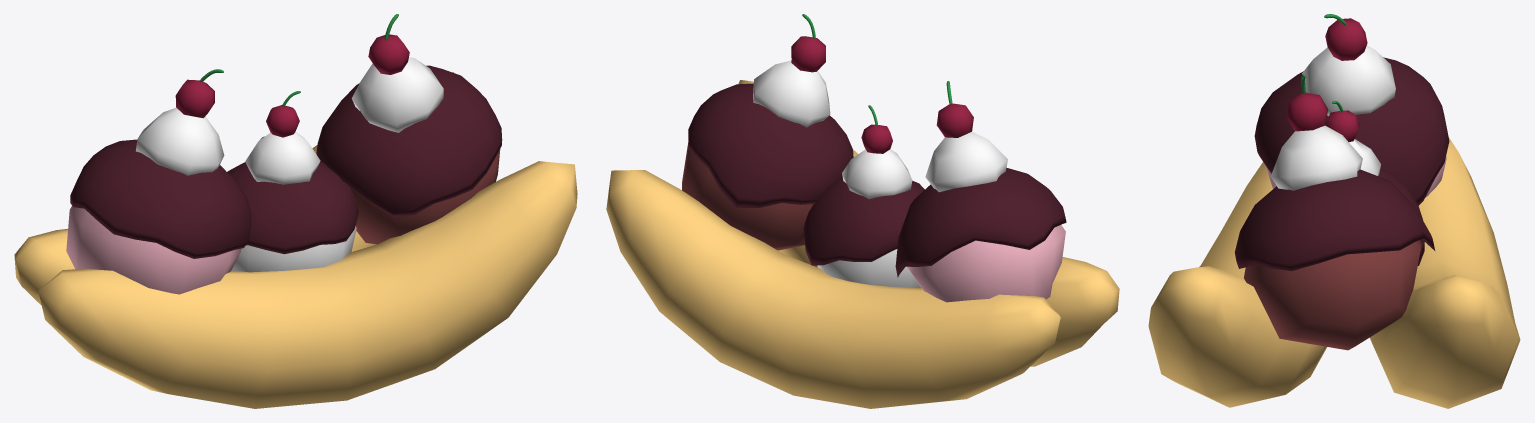
File: Banana_Split_Food.glb
3 views of the same model, side by side, from view 1: azimuth 30°, elevation 25°; view 2: azimuth 150°, elevation 25°; view 3: azimuth 270°, elevation 25° (orthographic). The views are drawn at different scales.
Visible parts, largest first — view 1: Banana_Split_Food; view 2: Banana_Split_Food; view 3: Banana_Split_Food.
Part boxes in pixels (left/top/right/bottom): Banana_Split_Food: left=14, top=14, right=577, bottom=408; Banana_Split_Food: left=606, top=14, right=1119, bottom=408; Banana_Split_Food: left=1148, top=14, right=1520, bottom=408.
Bounding box in the file's own units: 0.1061 × 0.0728 × 0.0681.
Materials: 1 (1 with a texture image).
